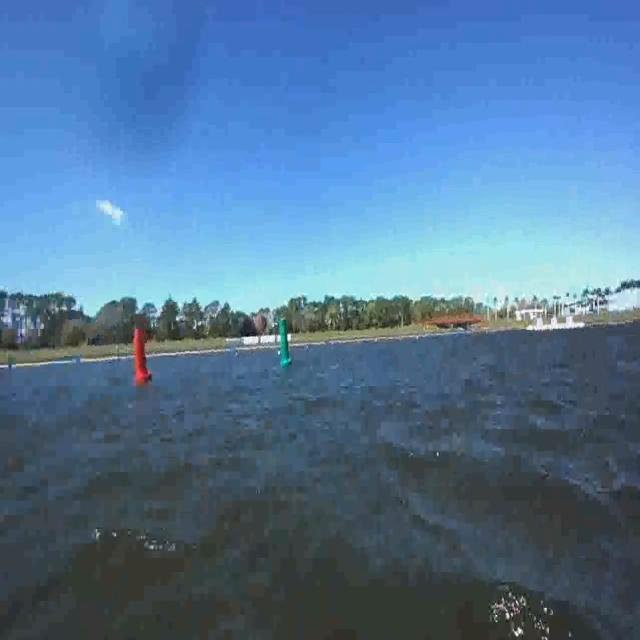green-column-buoy: (278, 320, 293, 367)
red-column-buoy: (133, 329, 151, 384)
